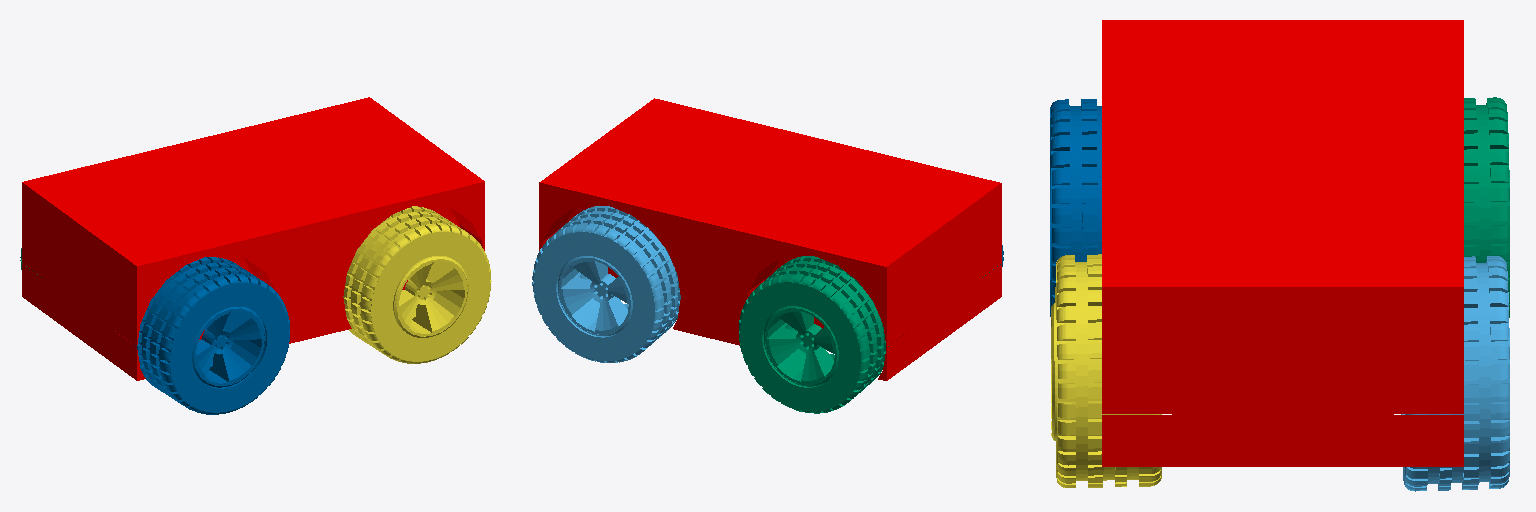
The robot description file, URDF, robot "abb_irb4600_60_205":
<?xml version="1.0" ?>
<!-- =================================================================================== -->
<!-- |    This document was autogenerated by xacro from urdf/irb4600_60_205.xacro      | -->
<!-- |    EDITING THIS FILE BY HAND IS NOT RECOMMENDED                                 | -->
<!-- =================================================================================== -->
<robot xmlns:xacro="http://ros.org/wiki/xacro" name="abb_irb4600_60_205">
  <link name="base_link">
    <collision name="collision">
      <geometry>
        <mesh filename="package://abb_irb4600_support/meshes/base/collision/base.stl"/>
      </geometry>
    </collision>
    <visual name="visual">
      <geometry>
        <mesh filename="package://abb_irb4600_support/meshes/base/visual/base.stl"/>
      </geometry>
      <material name="red">
        <color rgba="1 0 0 1"/>
      </material>
    </visual>
  </link>
  <link name="wheel_l1">
    <collision name="collision">
      <geometry>
        <mesh filename="package://abb_irb4600_support/meshes/base/collision/wheel_l1.stl"/>
      </geometry>
    </collision>
    <visual name="visual">
      <geometry>
        <mesh filename="package://abb_irb4600_support/meshes/base/visual/wheel_l1.stl"/>
      </geometry>
      <!-- <material name="yellow"/> -->
    </visual>
  </link>
  <link name="wheel_l2">
    <collision name="collision">
      <geometry>
        <mesh filename="package://abb_irb4600_support/meshes/base/collision/wheel_l2.stl"/>
      </geometry>
    </collision>
    <visual name="visual">
      <geometry>
        <mesh filename="package://abb_irb4600_support/meshes/base/visual/wheel_l2.stl"/>
      </geometry>
      <!-- <material name="yellow"/> -->
    </visual>
  </link>
  <link name="wheel_r1">
    <collision name="collision">
      <geometry>
        <mesh filename="package://abb_irb4600_support/meshes/base/collision/wheel_r1.stl"/>
      </geometry>
    </collision>
    <visual name="visual">
      <geometry>
        <mesh filename="package://abb_irb4600_support/meshes/base/visual/wheel_r1.stl"/>
      </geometry>
      <!-- <material name="yellow"/> -->
    </visual>
  </link>
  <link name="wheel_r2">
    <collision name="collision">
      <geometry>
        <mesh filename="package://abb_irb4600_support/meshes/base/collision/wheel_r2.stl"/>
      </geometry>
    </collision>
    <visual name="visual">
      <geometry>
        <mesh filename="package://abb_irb4600_support/meshes/base/visual/wheel_r2.stl"/>
      </geometry>
      <!-- <material name="yellow"/> -->
    </visual>
  </link>
  <!-- <link name="link_5">
    <collision name="collision">
      <geometry>
        <mesh filename="package://abb_irb4600_support/meshes/irb4600_60_205/collision/link_5.stl"/>
      </geometry>
    </collision>
    <visual name="visual">
      <geometry>
        <mesh filename="package://abb_irb4600_support/meshes/irb4600_60_205/visual/link_5.stl"/>
      </geometry>
      <material name="yellow"/>
    </visual>
  </link> -->
  <!-- <link name="link_6">
    <collision name="collision">
      <geometry>
        <mesh filename="package://abb_irb4600_support/meshes/irb4600_60_205/collision/link_6.stl"/>
      </geometry>
    </collision>
    <visual name="visual">
      <geometry>
        <mesh filename="package://abb_irb4600_support/meshes/irb4600_60_205/visual/link_6.stl"/>
      </geometry>
      <material name="yellow"/>
    </visual>
  </link>
  <link name="tool0"/> -->
  <joint type="revolute" name="joint_1">
    <!-- <origin xyz="0.8 0.65 0" rpy="0 0 0"/> -->
    <axis xyz="0 1 0"/>
    <parent link="base_link"/>
    <child link="wheel_l1"/>
    <!-- <limit effort="0" lower="-3.141" upper="3.141" velocity="3.054"/> -->
  </joint>
  <joint type="revolute" name="joint_2">
    <!-- <origin xyz="-0.8 0.65 0" rpy="0 0 0"/> -->
    <axis xyz="0 1 0"/>
    <parent link="base_link"/>
    <child link="wheel_r1"/>
    <!-- <limit effort="0" lower="-1.570" upper="2.617" velocity="3.054"/> -->
  </joint>
  <joint type="revolute" name="joint_3">
    <!-- <origin xyz="0.8 -0.65 0" rpy="0 0 0"/> -->
    <axis xyz="0 1 0"/>
    <parent link="base_link"/>
    <child link="wheel_l2"/>
    <!-- <limit effort="0" lower="-3.141" upper="1.308" velocity="3.054"/> -->
  </joint>
  <joint type="revolute" name="joint_4">
    <!-- <origin xyz="-0.8 -0.65 0" rpy="0 0 0"/> -->
    <axis xyz="0 1 0"/>
    <parent link="base_link"/>
    <child link="wheel_r2"/>
    <!-- <limit effort="0" lower="-6.981" upper="6.981" velocity="4.363"/> -->
  </joint>
  <!-- <joint type="revolute" name="joint_5">
    <origin xyz="0.960 0 0 " rpy="0 0 0"/>
    <axis xyz="0 1 0"/>
    <parent link="link_4"/>
    <child link="link_5"/>
    <limit effort="0" lower="-2.181" upper="2.094" velocity="4.363"/>
  </joint>
  <joint type="revolute" name="joint_6">
    <origin xyz="0.135 0 0 " rpy="0 0 0"/>
    <axis xyz="1 0 0"/>
    <parent link="link_5"/>
    <child link="link_6"/>
    <limit effort="0" lower="-6.981" upper="6.981" velocity="6.283"/>
  </joint>
  <joint type="fixed" name="joint_6-tool0">
    <parent link="link_6"/>
    <child link="tool0"/>
    <origin xyz="0 0 0" rpy="0 1.57079632679 0"/>
  </joint>
  <link name="base"/>
  <joint name="base_link-base" type="fixed">
    <origin xyz="0 0 0" rpy="0 0 0"/>
    <parent link="base_link"/>
    <child link="base"/>
  </joint> -->
</robot>

--- Render facts (derived) ---
3 views of the same robot in one strip: view 1: azimuth 30°, elevation 25°; view 2: azimuth 150°, elevation 25°; view 3: azimuth 270°, elevation 25° (orthographic).
Robot: abb_irb4600_60_205 — 5 links, 4 joints (4 revolute); root link base_link; default pose: all joints at 0.
Links seen in each view (by area): view 1: base_link, wheel_r2, wheel_r1; view 2: base_link, wheel_l1, wheel_l2; view 3: base_link, wheel_r1, wheel_l1, wheel_r2, wheel_l2.
Link boxes in pixels (x1=…): base_link: x1=22, y1=97, x2=484, y2=380; wheel_r2: x1=134, y1=257, x2=289, y2=414; wheel_r1: x1=343, y1=206, x2=491, y2=363; base_link: x1=539, y1=98, x2=1001, y2=380; wheel_l1: x1=532, y1=206, x2=680, y2=362; wheel_l2: x1=739, y1=256, x2=888, y2=413; base_link: x1=1102, y1=20, x2=1463, y2=466; wheel_r1: x1=1051, y1=254, x2=1161, y2=487; wheel_l1: x1=1401, y1=256, x2=1509, y2=491; wheel_r2: x1=1050, y1=99, x2=1101, y2=316; wheel_l2: x1=1464, y1=97, x2=1509, y2=317.
Bounding box of the posed robot: 2.7 × 1.97 × 1.15 m (x, y, z).
5 mesh visuals loaded from 5 distinct referenced files (5 binary STL).